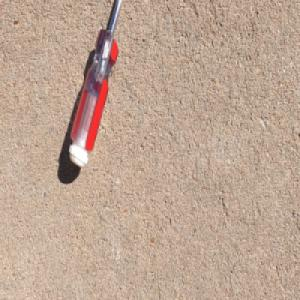Screwdriver: (68, 0, 125, 170)
